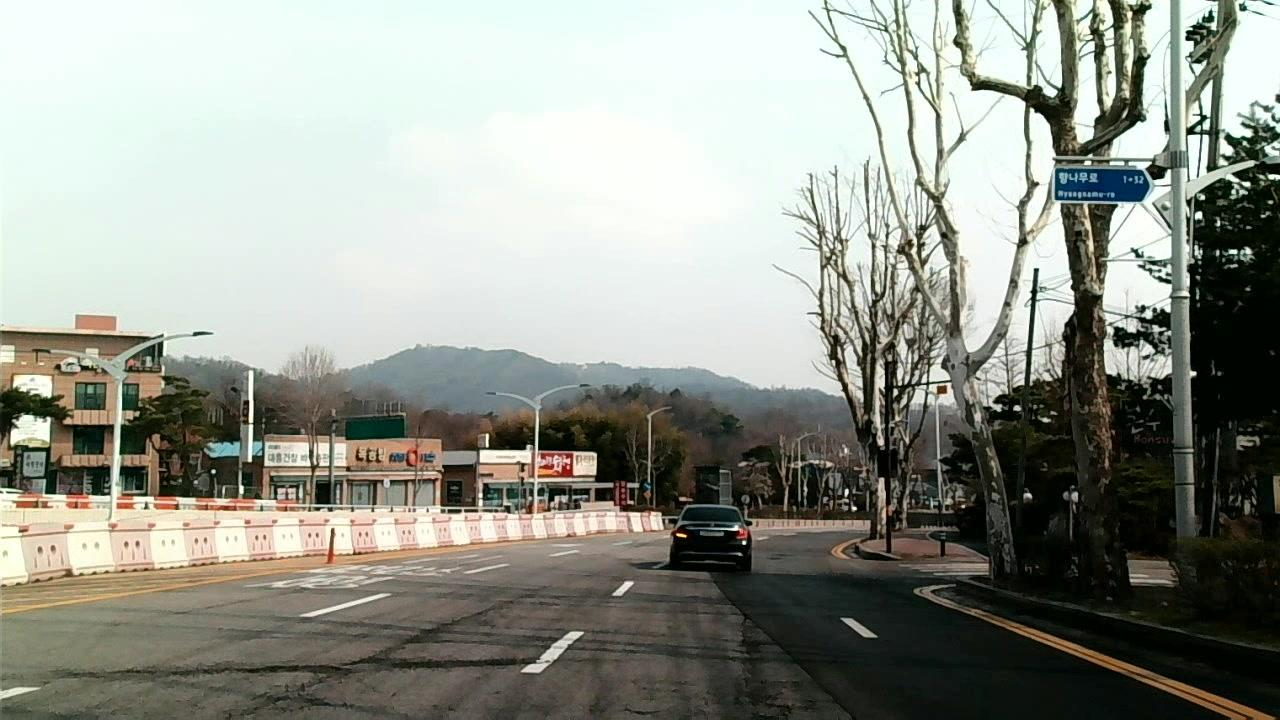erosion: (735, 612, 789, 720)
hcrack: (49, 655, 567, 677), (239, 693, 404, 718)
vcrack: (374, 583, 551, 656)
